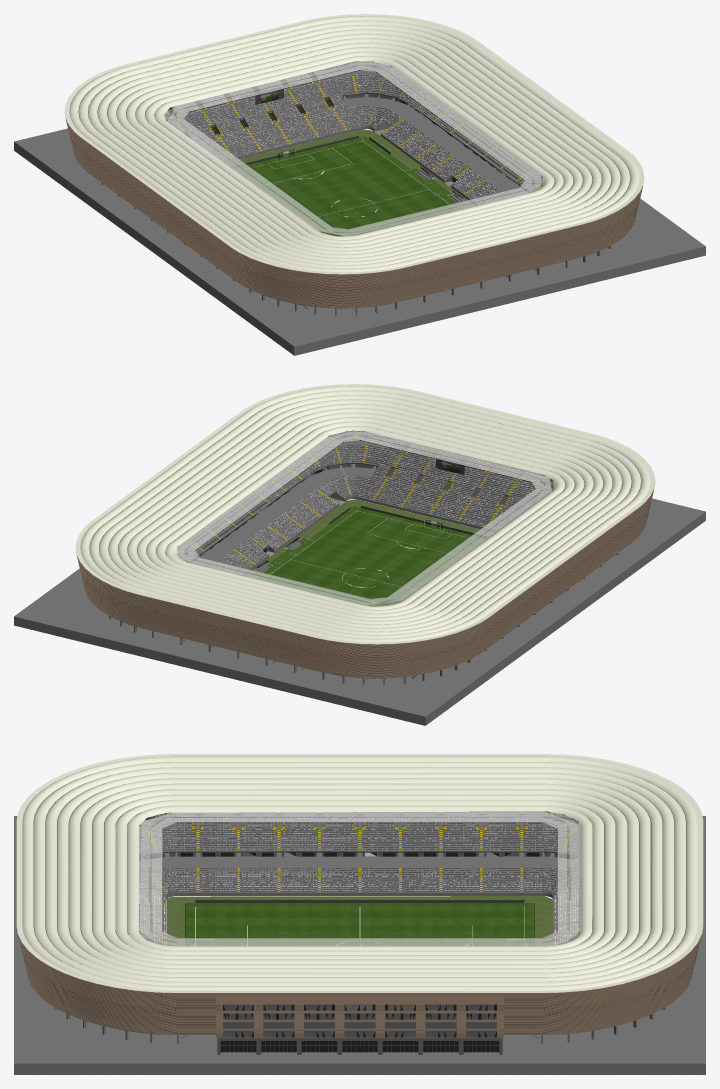
File: estadio.glb
3 views of the same model, one above another, from view 1: azimuth 30°, elevation 25°; view 2: azimuth 150°, elevation 25°; view 3: azimuth 270°, elevation 25° (orthographic). The views are drawn at different scales.
Parts seen in each view (by area): view 1: Material2 (×6), Material3 (×4); view 2: Material2 (×6), Material3 (×4); view 3: Material2 (×7), Material3 (×5).
Part boxes in pixels (x1=…): Material2 (×6): x1=14, y1=14, x2=705, y2=355; Material3 (×4): x1=65, y1=72, x2=643, y2=307; Material2 (×6): x1=14, y1=384, x2=705, y2=725; Material3 (×4): x1=77, y1=431, x2=655, y2=677; Material2 (×7): x1=14, y1=754, x2=705, y2=1074; Material3 (×5): x1=18, y1=813, x2=701, y2=1054.
Size of the model in its own units: 7410 by 1147 by 8748.
Materials: 26 (18 with a texture image).
